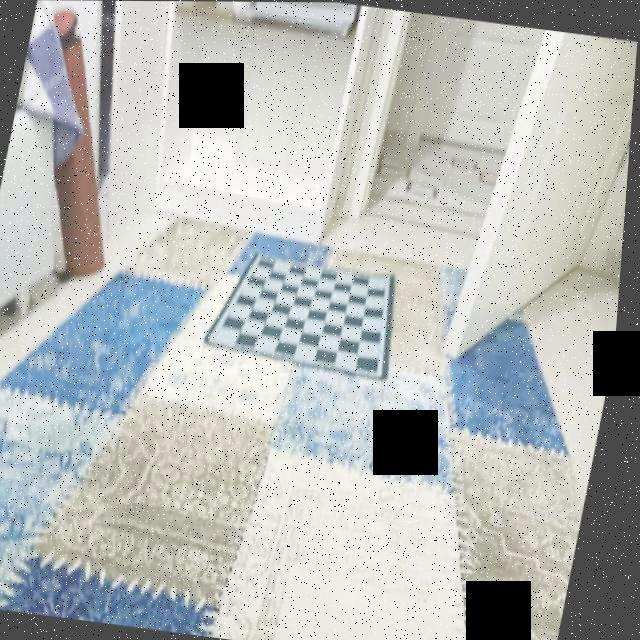chess-table-corners: (254, 245, 274, 271), (209, 326, 228, 348), (374, 358, 391, 379), (380, 271, 398, 290)
